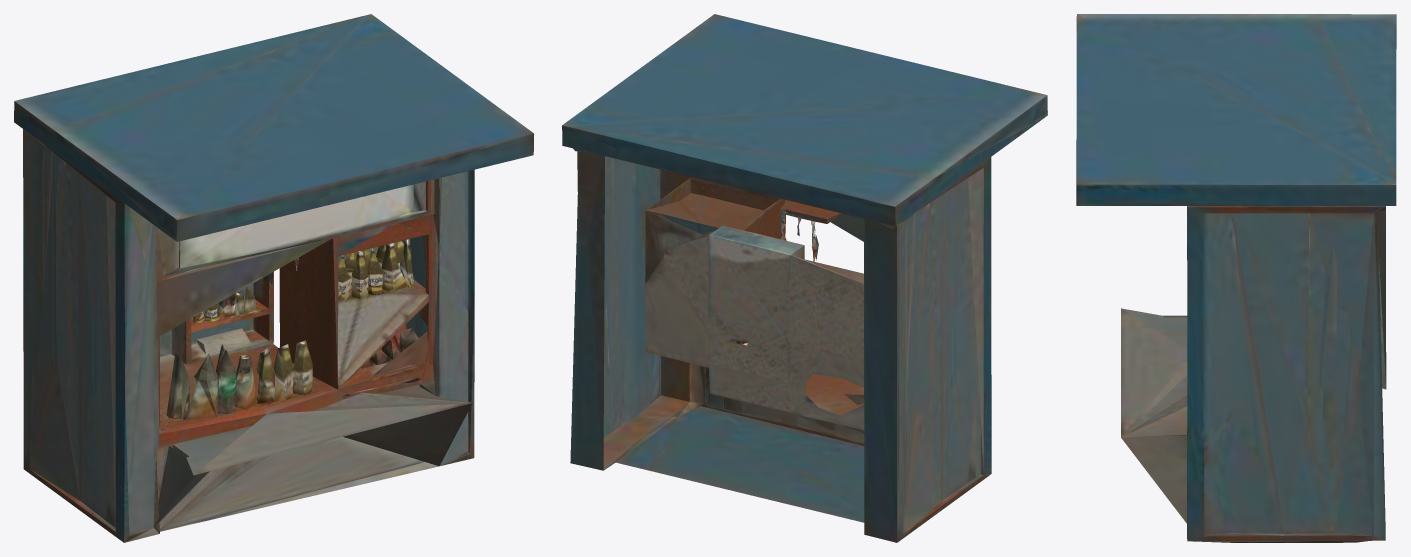
The model's file is kiosk.glb.
The picture shows the model from 3 angles, left to right: view 1: azimuth 30°, elevation 25°; view 2: azimuth 150°, elevation 25°; view 3: azimuth 270°, elevation 25°; orthographic projection. The views are drawn at different scales.
Size of the model in its own units: 1.9 by 1.88 by 1.5.
1 material, 1 textured.
